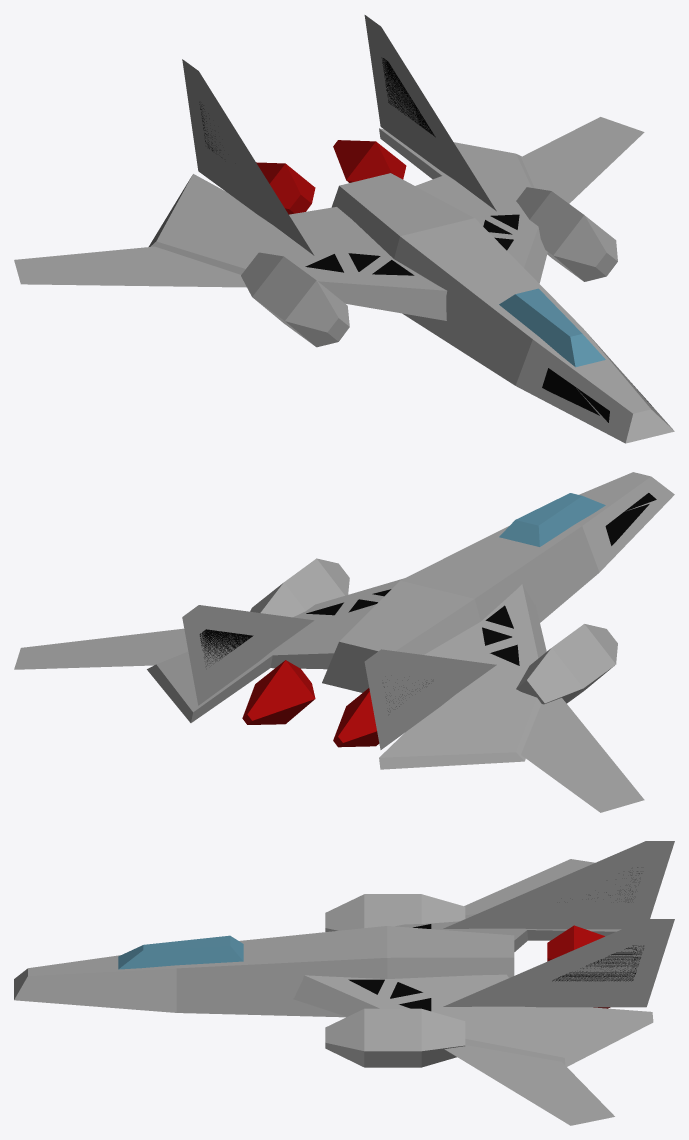
File: player3.obj
3 renders of one model, top to bottom at view 1: azimuth 30°, elevation 25°; view 2: azimuth 150°, elevation 25°; view 3: azimuth 270°, elevation 25°, orthographic. The views are drawn at different scales.
Visible parts, largest first — view 1: Wings, Body_Cube.001, Cockpit_Cube.002; view 2: Wings, Body_Cube.001, Cockpit_Cube.002; view 3: Wings, Body_Cube.001, Cockpit_Cube.002.
Part boxes in pixels (x1,y1,x2,y2): Wings: (14,15,644,347); Body_Cube.001: (331,173,674,443); Cockpit_Cube.002: (499,288,605,367); Wings: (14,558,644,812); Body_Cube.001: (322,472,674,692); Cockpit_Cube.002: (499,493,605,546); Wings: (293,841,674,1125); Body_Cube.001: (14,926,514,1017); Cockpit_Cube.002: (118,935,243,969).
Bounding box in the file's own units: 9.94 × 2.26 × 10.4.
